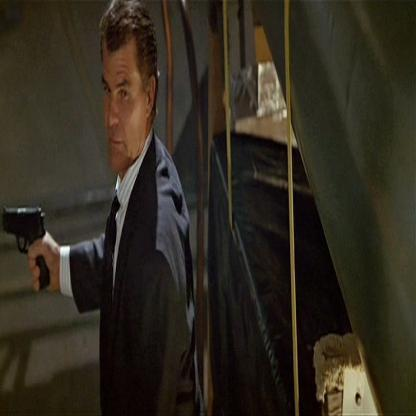gun: (0, 181, 56, 287)
